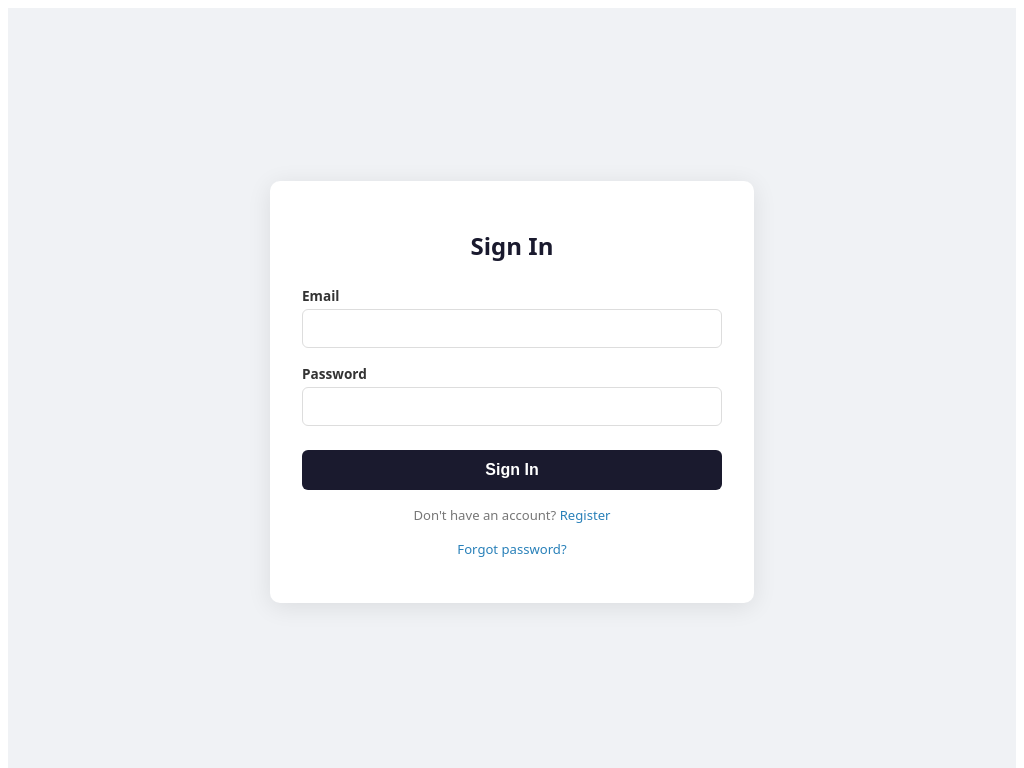
Scenario: Login — security behaviours › shows MFA field when backend returns 403 (MFA required)
Type "user@example.com" into the field labelled "Email".
click(512, 328); type("user@example.com")  # box [302,309,722,348]
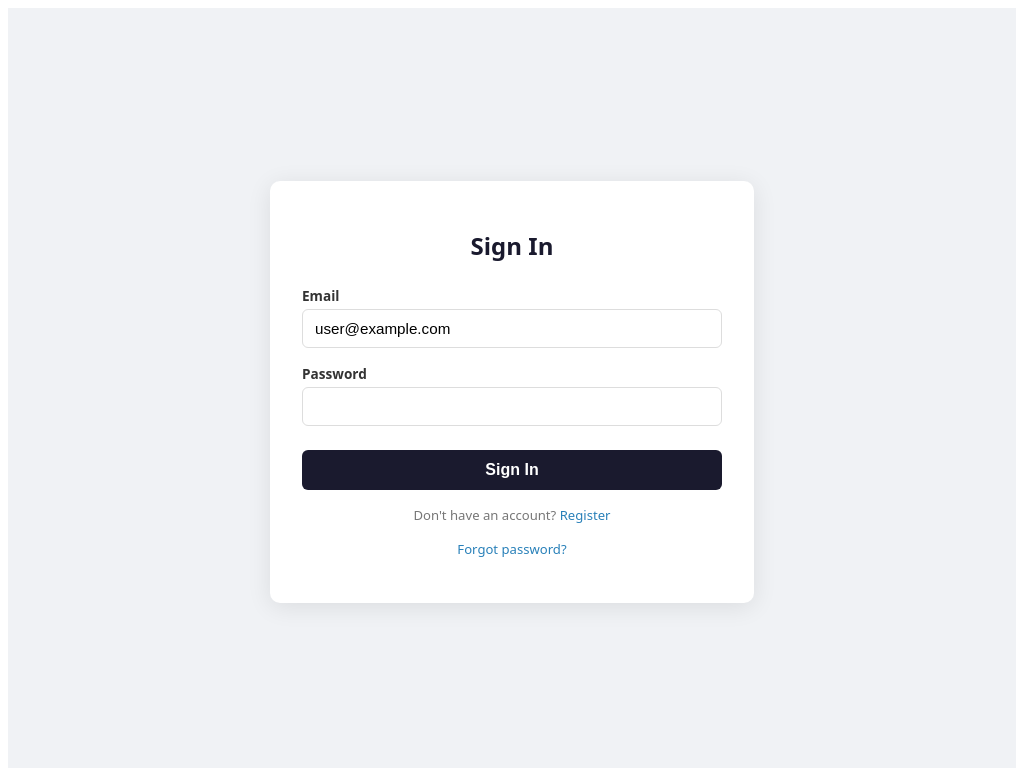
Type "password123" into the password field labelled "Password".
click(512, 406); type("password123")  # box [302,387,722,426]
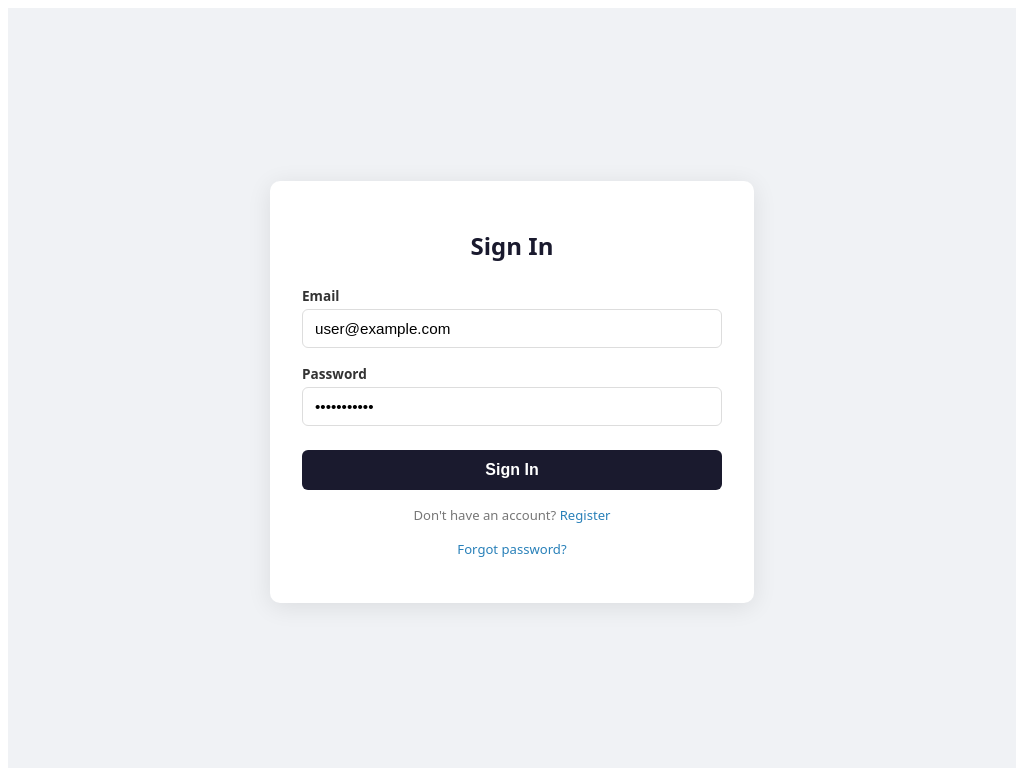
Click the button "Sign In".
click(512, 470)  # box [302,450,722,490]
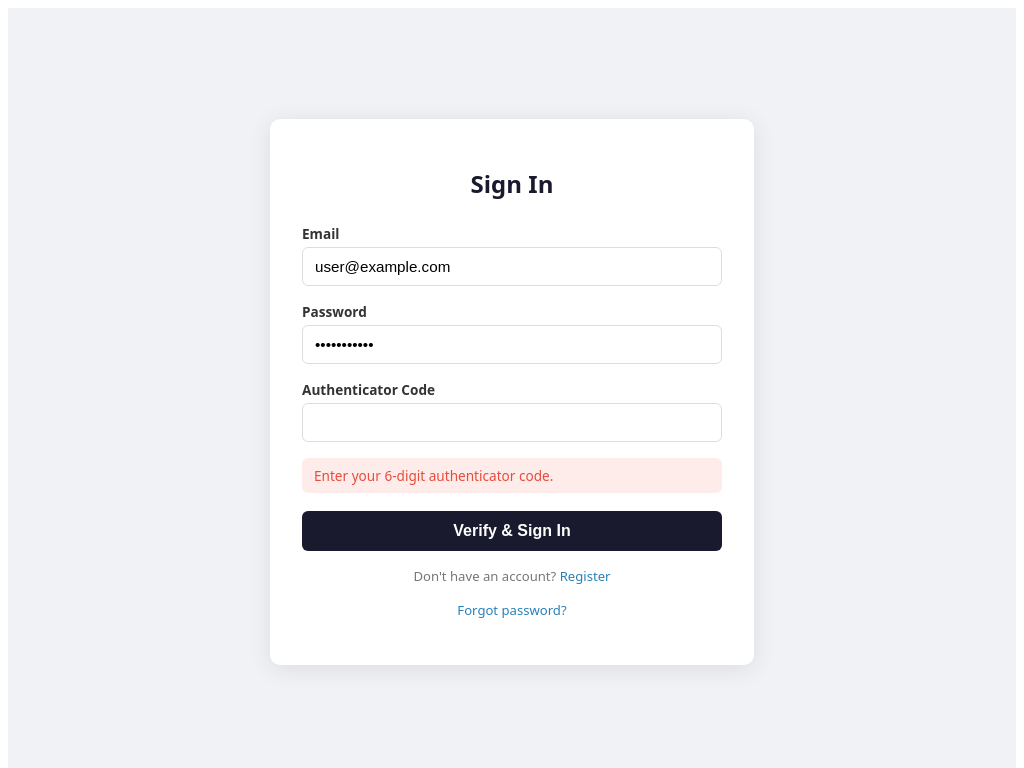
Check: the field named "6-digit mfa code" is shown, box [302,404,722,442]
